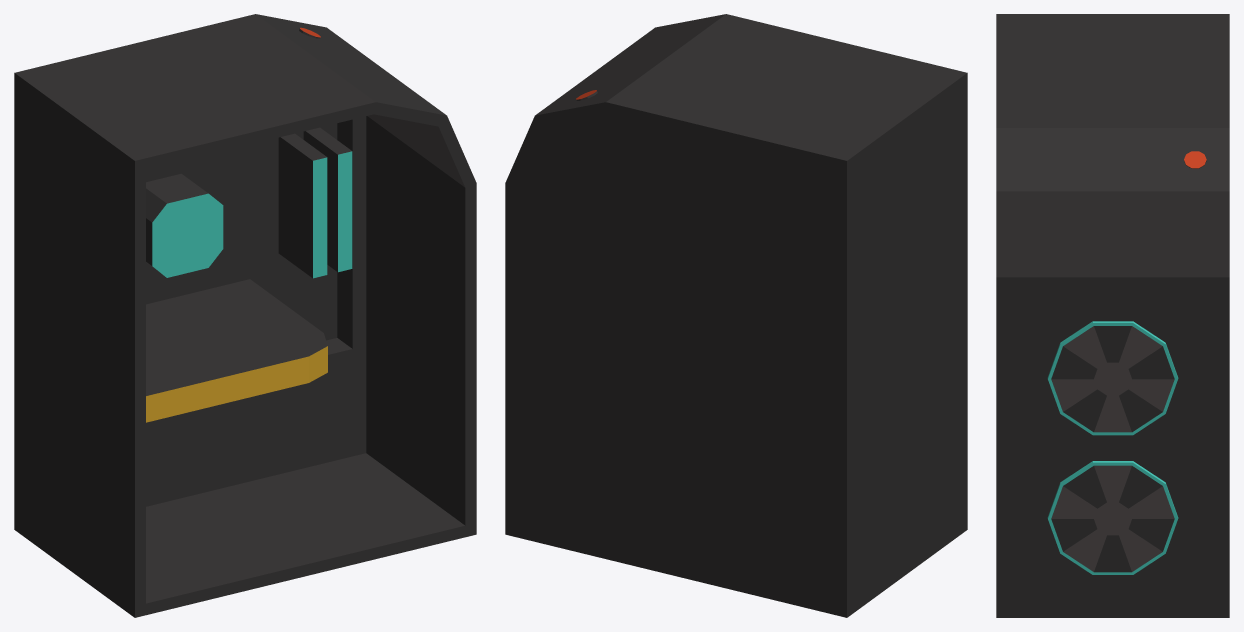
The model's file is torre.fbx.
The picture shows the model from 3 angles, left to right: view 1: azimuth 30°, elevation 25°; view 2: azimuth 150°, elevation 25°; view 3: azimuth 270°, elevation 25°; orthographic projection. The views are drawn at different scales.
Visible parts, largest first — view 1: Cube.009; view 2: Cube.009; view 3: Cube.009.
Part boxes in pixels (left/top/right/bottom): Cube.009: left=14, top=14, right=476, bottom=617; Cube.009: left=505, top=14, right=967, bottom=617; Cube.009: left=996, top=14, right=1229, bottom=617.
Size of the model in its own units: 74.07 by 93.66 by 44.74.
